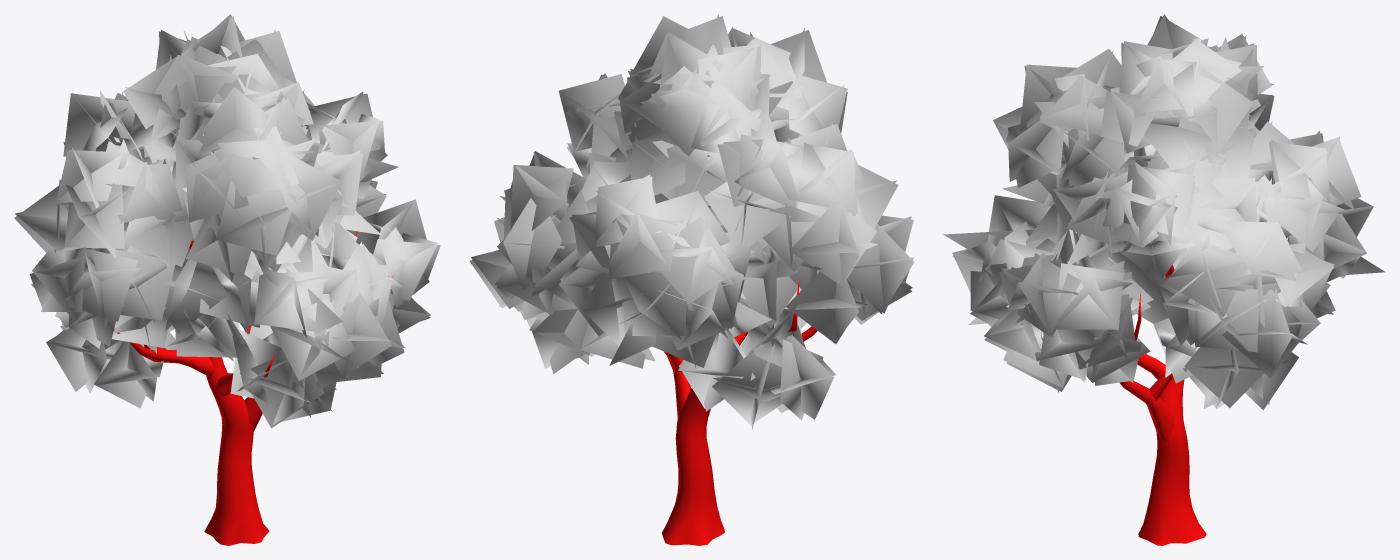
File: G_Banyan_019_S1.fbx
3 views of the same model, side by side, from view 1: azimuth 30°, elevation 25°; view 2: azimuth 150°, elevation 25°; view 3: azimuth 270°, elevation 25° (orthographic). The views are drawn at different scales.
Parts seen in each view (by area): view 1: G_Banyan_019_S1_P01_LOD0; view 2: G_Banyan_019_S1_P01_LOD0; view 3: G_Banyan_019_S1_P01_LOD0.
Boxes of the visible parts, x1=… form: G_Banyan_019_S1_P01_LOD0: x1=14, y1=14, x2=440, y2=545; G_Banyan_019_S1_P01_LOD0: x1=469, y1=14, x2=914, y2=545; G_Banyan_019_S1_P01_LOD0: x1=943, y1=14, x2=1385, y2=545.
Size of what is drawn, in the model's own units: 436 by 550 by 443.
